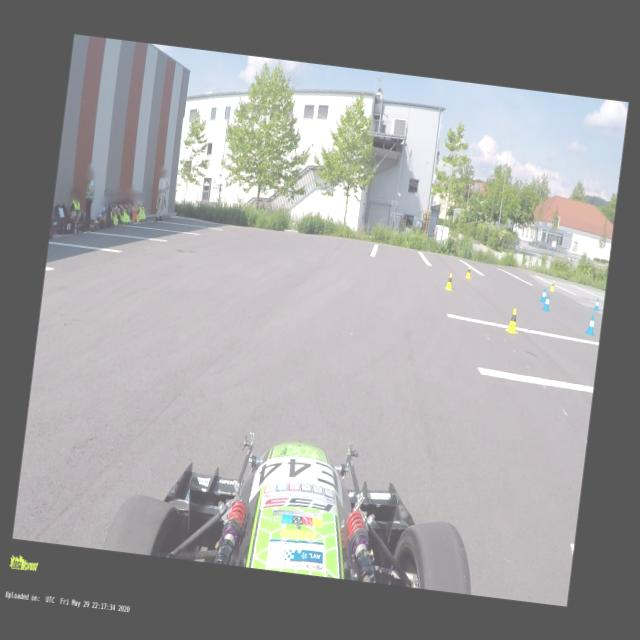blue_cone: (585, 314, 596, 335), (542, 294, 550, 310), (540, 288, 546, 302), (593, 298, 599, 310)
yellow_cone: (505, 307, 521, 334), (444, 272, 454, 290), (464, 265, 472, 278), (549, 280, 555, 292)
